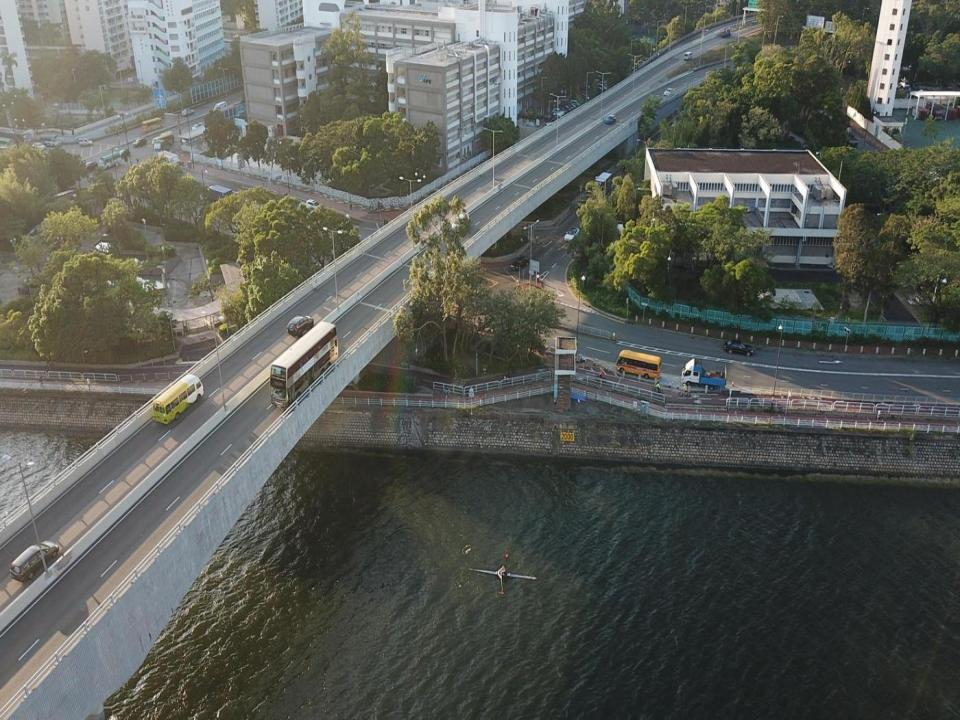bus: (270, 321, 338, 411), (153, 374, 204, 426), (616, 349, 661, 379), (0, 130, 32, 145), (98, 152, 121, 172), (142, 116, 163, 133), (154, 132, 174, 149), (38, 133, 61, 147), (0, 137, 16, 151)
car: (9, 541, 58, 583), (287, 313, 314, 338), (724, 340, 754, 356), (450, 212, 470, 231), (510, 255, 532, 271), (297, 201, 315, 218), (564, 227, 580, 242), (83, 160, 98, 173), (306, 199, 322, 211), (132, 137, 147, 148), (116, 148, 130, 159), (545, 109, 559, 120), (593, 85, 605, 96), (567, 98, 580, 108), (78, 138, 93, 146), (577, 92, 589, 102), (899, 76, 909, 88), (908, 80, 920, 90), (560, 104, 573, 113), (554, 107, 568, 115), (552, 107, 564, 116), (596, 84, 611, 91), (663, 88, 674, 97), (605, 115, 616, 124), (31, 142, 45, 149), (182, 108, 194, 116), (943, 80, 952, 90), (542, 115, 553, 123), (551, 110, 562, 118), (564, 102, 576, 109), (192, 122, 202, 130), (634, 63, 643, 70), (638, 59, 647, 65)
truck: (681, 358, 727, 390), (157, 150, 183, 172), (593, 171, 612, 198), (207, 185, 233, 203), (152, 139, 166, 158), (720, 26, 731, 38)
van: (212, 102, 228, 114), (614, 220, 625, 235), (684, 51, 692, 60)
